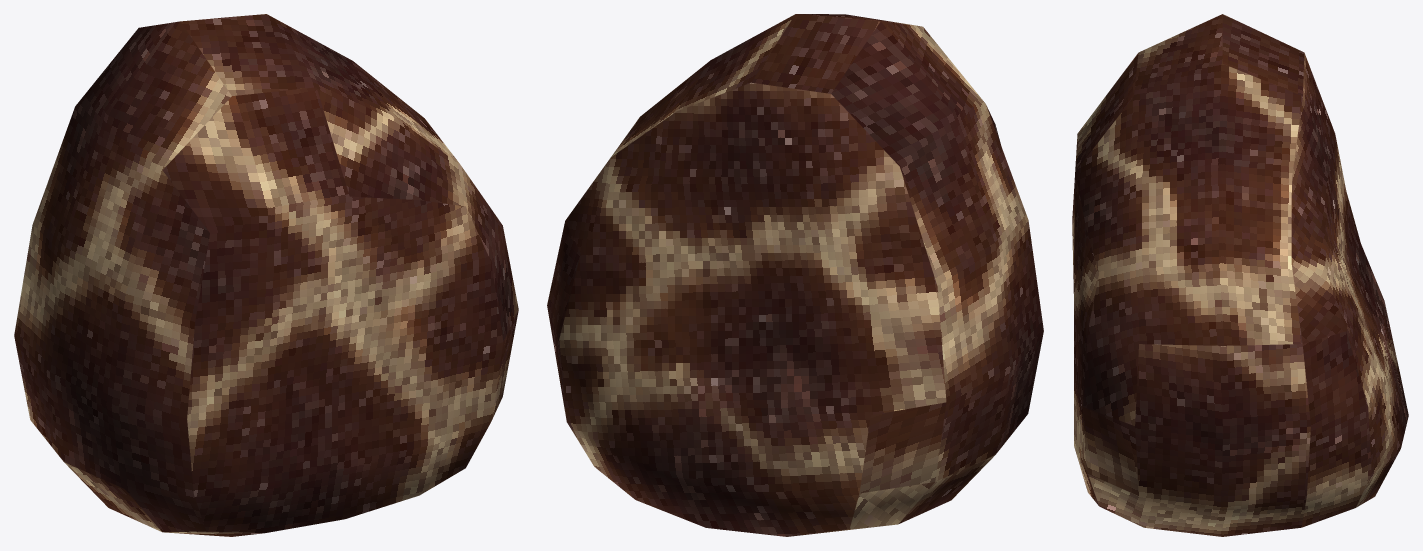
File: Gib2.glb
3 views of the same model, side by side, from view 1: azimuth 30°, elevation 25°; view 2: azimuth 150°, elevation 25°; view 3: azimuth 270°, elevation 25° (orthographic). The views are drawn at different scales.
Parts seen in each view (by area): view 1: Gib2; view 2: Gib2; view 3: Gib2.
Part boxes in pixels (x1=…): Gib2: x1=14, y1=14, x2=518, y2=536; Gib2: x1=547, y1=14, x2=1043, y2=536; Gib2: x1=1072, y1=14, x2=1408, y2=536.
Size of the model in its own units: 1.68 by 1.79 by 1.26.
1 material, 1 textured.
